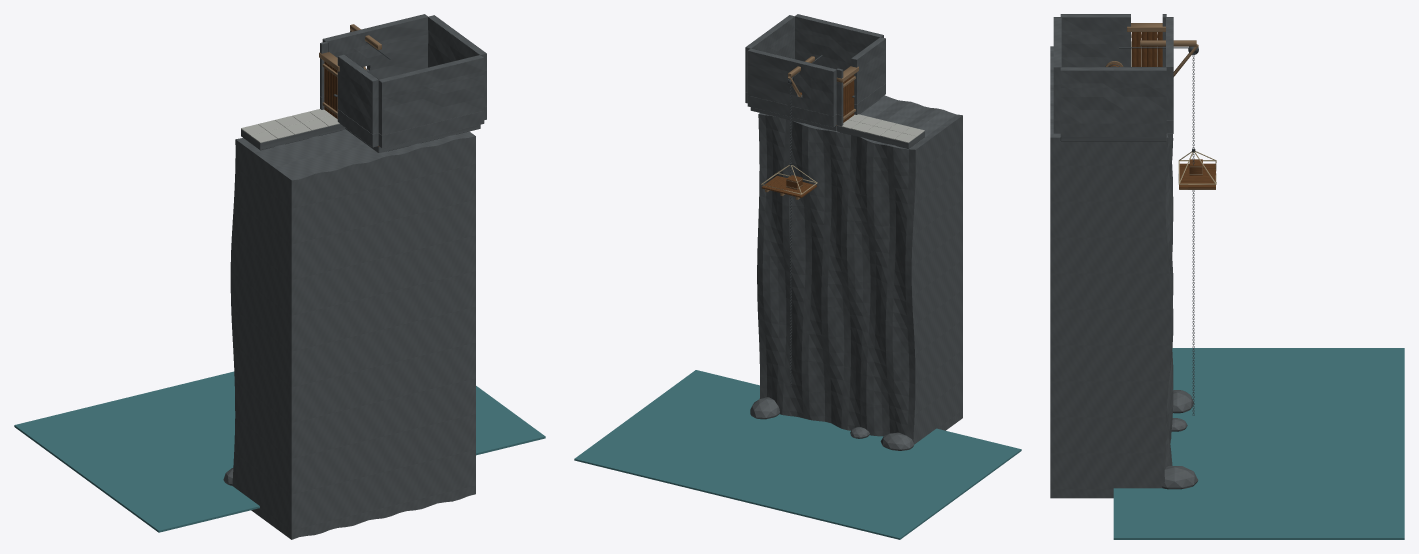
File: retreat_expanded_a2.glb
The picture shows the model from 3 angles, left to right: view 1: azimuth 30°, elevation 25°; view 2: azimuth 150°, elevation 25°; view 3: azimuth 270°, elevation 25°; orthographic projection. The views are drawn at different scales.
Parts seen in each view (by area): view 1: VTT_Bounded_Coastal_Cliff, VTT_Coastal_Water, North_Wall_Upper, South_Wall_Upper, West_Wall_North_Upper, CANON_Floor_West_Path, East_Wall_Upper, North_Wall_Base, CANON_Worn_Wooden_Door; view 2: VTT_Bounded_Coastal_Cliff, VTT_Coastal_Water, South_Wall_Upper, North_Wall_Upper, CANON_Floor_West_Path, West_Wall_North_Upper, East_Wall_Upper, South_Wall_Base, CANON_Suspended_Wooden_Pallet, VTT_Tide_Rock_1; view 3: VTT_Coastal_Water, VTT_Bounded_Coastal_Cliff, East_Wall_Upper, West_Wall_North_Upper, East_Wall_Base, CANON_Suspended_Wooden_Pallet, CANON_Worn_Wooden_Door, North_Wall_Upper, South_Wall_Upper, VTT_Tide_Rock_1, VTT_Chain_Guide_And_Pulley, CANON_Floor_House.
Boxes of the visible parts, x1,y1,x2,y2 form: VTT_Bounded_Coastal_Cliff: (230, 129, 475, 539); VTT_Coastal_Water: (14, 371, 545, 532); North_Wall_Upper: (378, 55, 484, 135); South_Wall_Upper: (322, 14, 428, 79); West_Wall_North_Upper: (337, 54, 378, 134); CANON_Floor_West_Path: (241, 109, 345, 150); East_Wall_Upper: (428, 15, 486, 106); North_Wall_Base: (378, 111, 484, 148); CANON_Worn_Wooden_Door: (322, 61, 337, 118); VTT_Bounded_Coastal_Cliff: (757, 95, 962, 444); VTT_Coastal_Water: (574, 370, 1021, 539); South_Wall_Upper: (747, 48, 836, 116); North_Wall_Upper: (794, 14, 883, 70); CANON_Floor_West_Path: (837, 114, 924, 148); West_Wall_North_Upper: (851, 37, 885, 104); East_Wall_Upper: (745, 15, 794, 92); South_Wall_Base: (747, 95, 836, 127); CANON_Suspended_Wooden_Pallet: (761, 162, 817, 199); VTT_Tide_Rock_1: (750, 397, 779, 419); VTT_Coastal_Water: (1113, 348, 1404, 539); VTT_Bounded_Coastal_Cliff: (1050, 46, 1173, 498); East_Wall_Upper: (1060, 67, 1166, 123); West_Wall_North_Upper: (1060, 14, 1130, 66); East_Wall_Base: (1060, 123, 1166, 136); CANON_Suspended_Wooden_Pallet: (1178, 148, 1216, 189); CANON_Worn_Wooden_Door: (1131, 32, 1162, 66); North_Wall_Upper: (1053, 17, 1061, 120); South_Wall_Upper: (1166, 17, 1173, 120); VTT_Tide_Rock_1: (1162, 466, 1198, 489); VTT_Chain_Guide_And_Pulley: (1140, 40, 1198, 76); CANON_Floor_House: (1060, 137, 1166, 141).
Bounding box in the file's own units: 17 × 18.25 × 13.4.
Materials: 7 (2 with a texture image).
